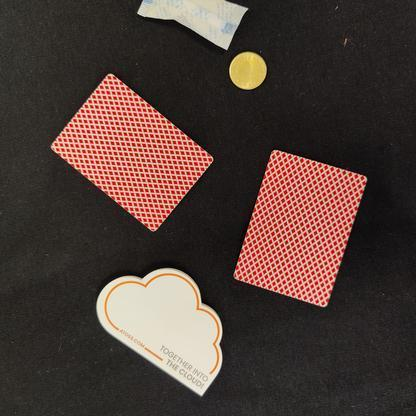card: (40, 62, 221, 234), (229, 135, 376, 318)
